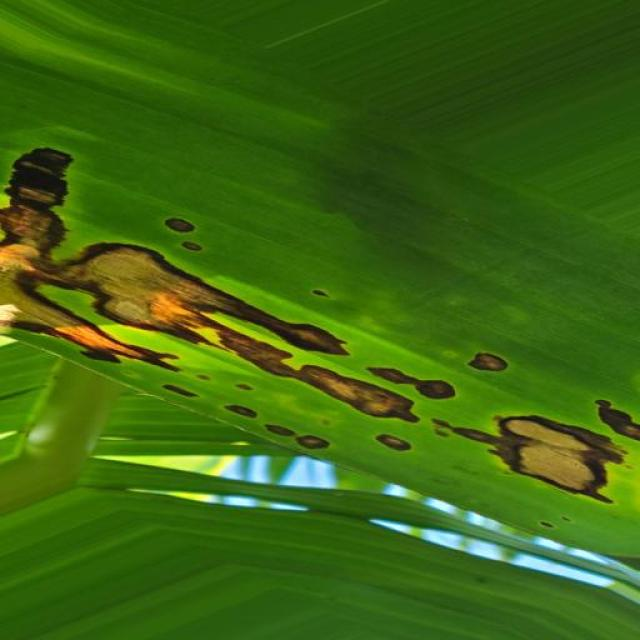Early_rust: (0, 114, 640, 559)
